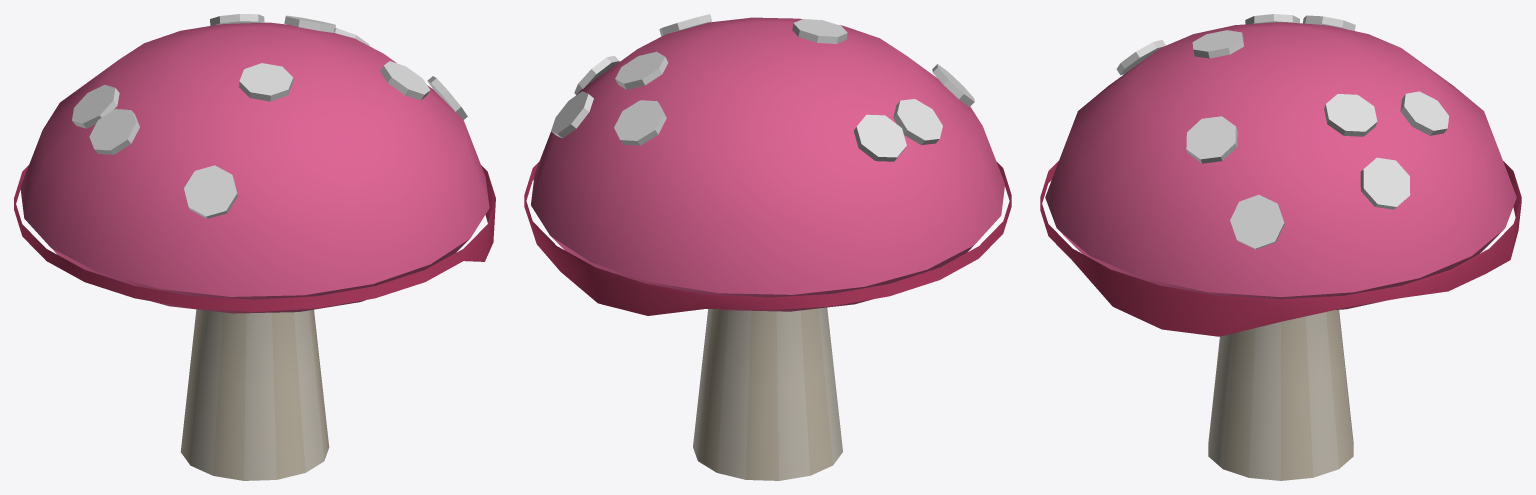
Rendered from mushroom_candy.glb.
The picture shows the model from 3 angles, left to right: view 1: azimuth 30°, elevation 25°; view 2: azimuth 150°, elevation 25°; view 3: azimuth 270°, elevation 25°; orthographic projection.
Parts seen in each view (by area): view 1: mushroom_candy; view 2: mushroom_candy; view 3: mushroom_candy.
Part boxes in pixels (<box>): mushroom_candy: <box>14,14,495,480</box>; mushroom_candy: <box>524,14,1011,480</box>; mushroom_candy: <box>1040,14,1521,480</box>.
Bounding box in the file's own units: 1.94 × 1.79 × 1.94.
